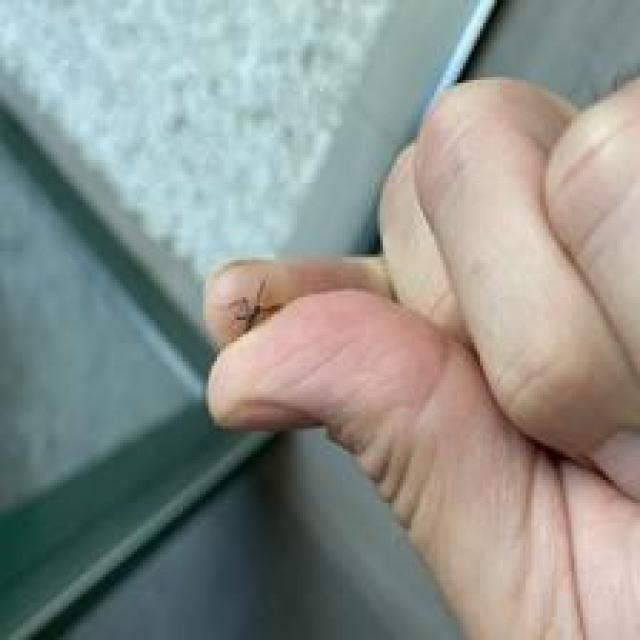Aedes albopictus: (227, 277, 284, 334)
